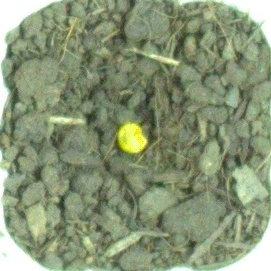chilli seed: (117, 122, 148, 154)
